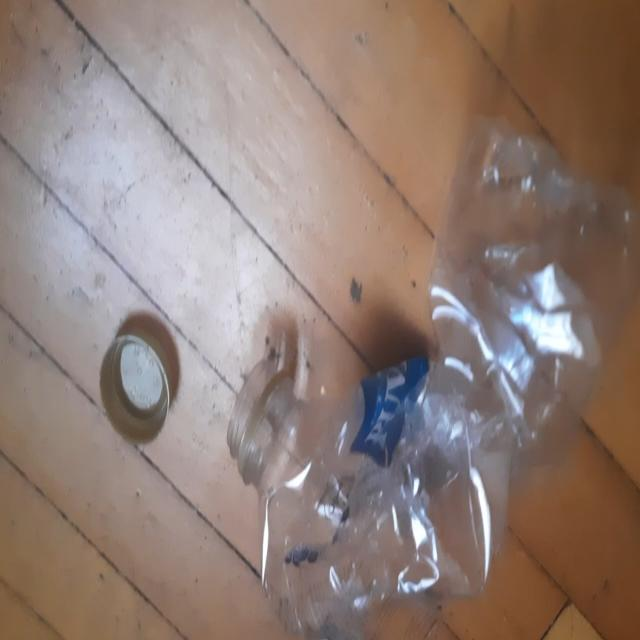Plastic: (244, 113, 636, 636)
